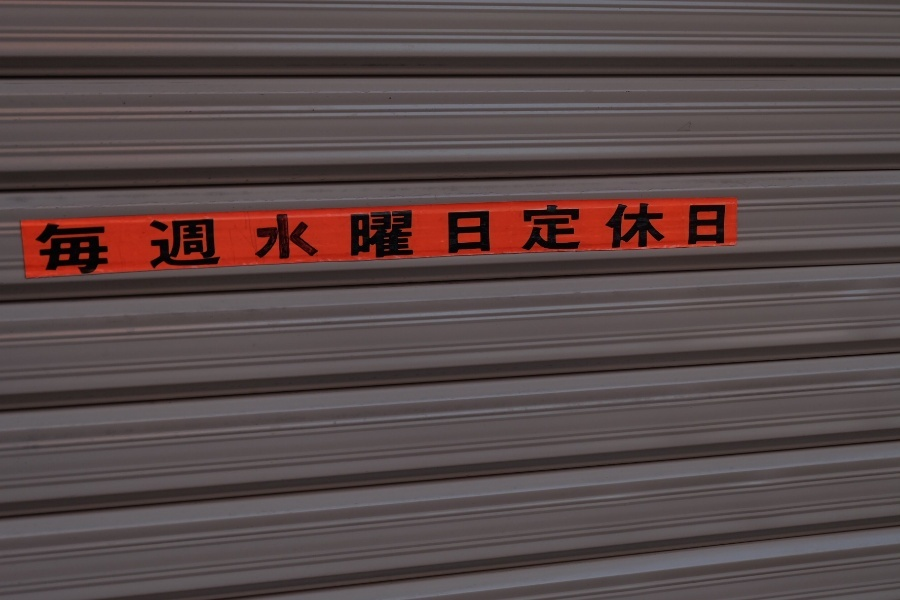text: (49, 200, 64, 277), (65, 200, 80, 277), (81, 200, 96, 277), (97, 200, 112, 277), (113, 200, 128, 277), (129, 200, 144, 277), (145, 200, 160, 277), (161, 200, 176, 277), (177, 200, 192, 277), (193, 200, 208, 277), (209, 200, 224, 277), (225, 200, 240, 277), (241, 200, 256, 277), (257, 200, 272, 277), (273, 200, 288, 277), (289, 200, 304, 277), (305, 200, 320, 277), (321, 200, 336, 277), (337, 200, 352, 277), (353, 200, 368, 277), (369, 200, 384, 277), (385, 200, 400, 277), (401, 200, 416, 277), (417, 200, 432, 277), (433, 200, 448, 277), (449, 200, 464, 277), (465, 200, 480, 277), (481, 200, 496, 277), (497, 200, 512, 277), (513, 200, 528, 277), (529, 200, 544, 277), (545, 200, 560, 277), (561, 200, 576, 277), (577, 200, 592, 277), (593, 200, 608, 277), (609, 200, 624, 277), (625, 200, 640, 277), (641, 200, 656, 277), (657, 200, 672, 277), (673, 200, 688, 277), (689, 200, 704, 277), (705, 200, 720, 277), (35, 200, 48, 277), (721, 200, 727, 277)
